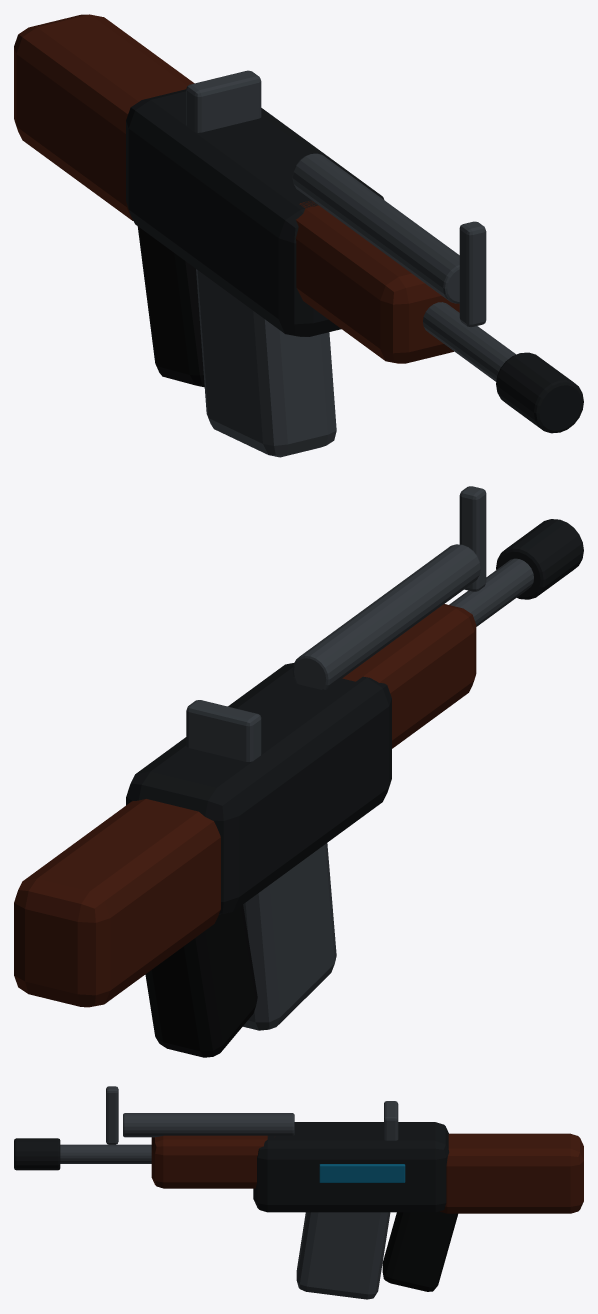
3 views of the same model, one above another, from view 1: azimuth 30°, elevation 25°; view 2: azimuth 150°, elevation 25°; view 3: azimuth 270°, elevation 25° (orthographic). The views are drawn at different scales.
Parts seen in each view (by area): view 1: Receiver_0, Wood_stock_0, Magazine_0, Upper_handguard_0, Gas_tube_0, Pistol_grip_0, Muzzle_brake_0, Rear_sight_0, Barrel_0, Front_sight_0; view 2: Receiver_0, Wood_stock_0, Magazine_0, Pistol_grip_0, Upper_handguard_0, Gas_tube_0, Muzzle_brake_0, Rear_sight_0, Barrel_0, Front_sight_0; view 3: Receiver_0, Wood_stock_0, Magazine_0, Upper_handguard_0, Pistol_grip_0, Gas_tube_0, Barrel_0, Aurora_serial_plate_0, Muzzle_brake_0, Front_sight_0, Rear_sight_0.
Part boxes in pixels (<box>): Receiver_0: <box>126,89,384,336</box>; Wood_stock_0: <box>14,14,194,220</box>; Magazine_0: <box>196,269,336,457</box>; Upper_handguard_0: <box>295,200,459,363</box>; Gas_tube_0: <box>292,153,459,303</box>; Pistol_grip_0: <box>137,226,204,387</box>; Muzzle_brake_0: <box>496,352,583,433</box>; Rear_sight_0: <box>186,70,261,132</box>; Barrel_0: <box>423,302,515,381</box>; Front_sight_0: <box>459,221,486,327</box>; Receiver_0: <box>126,663,391,914</box>; Wood_stock_0: <box>14,799,220,1007</box>; Magazine_0: <box>243,843,336,1030</box>; Pistol_grip_0: <box>145,904,257,1057</box>; Upper_handguard_0: <box>342,604,476,748</box>; Gas_tube_0: <box>292,544,480,690</box>; Muzzle_brake_0: <box>496,519,583,599</box>; Rear_sight_0: <box>186,700,261,761</box>; Barrel_0: <box>449,558,533,626</box>; Front_sight_0: <box>459,486,486,591</box>; Receiver_0: <box>253,1122,449,1212</box>; Wood_stock_0: <box>440,1133,583,1213</box>; Magazine_0: <box>296,1212,390,1299</box>; Upper_handguard_0: <box>151,1135,267,1188</box>; Pistol_grip_0: <box>382,1211,457,1291</box>; Gas_tube_0: <box>123,1113,294,1137</box>; Barrel_0: <box>60,1144,151,1163</box>; Aurora_serial_plate_0: <box>319,1164,405,1182</box>; Muzzle_brake_0: <box>14,1138,60,1170</box>; Front_sight_0: <box>106,1086,118,1144</box>; Rear_sight_0: <box>384,1101,398,1140</box>.
Bounding box in the file's own units: 0.212 × 0.6354 × 1.6.
